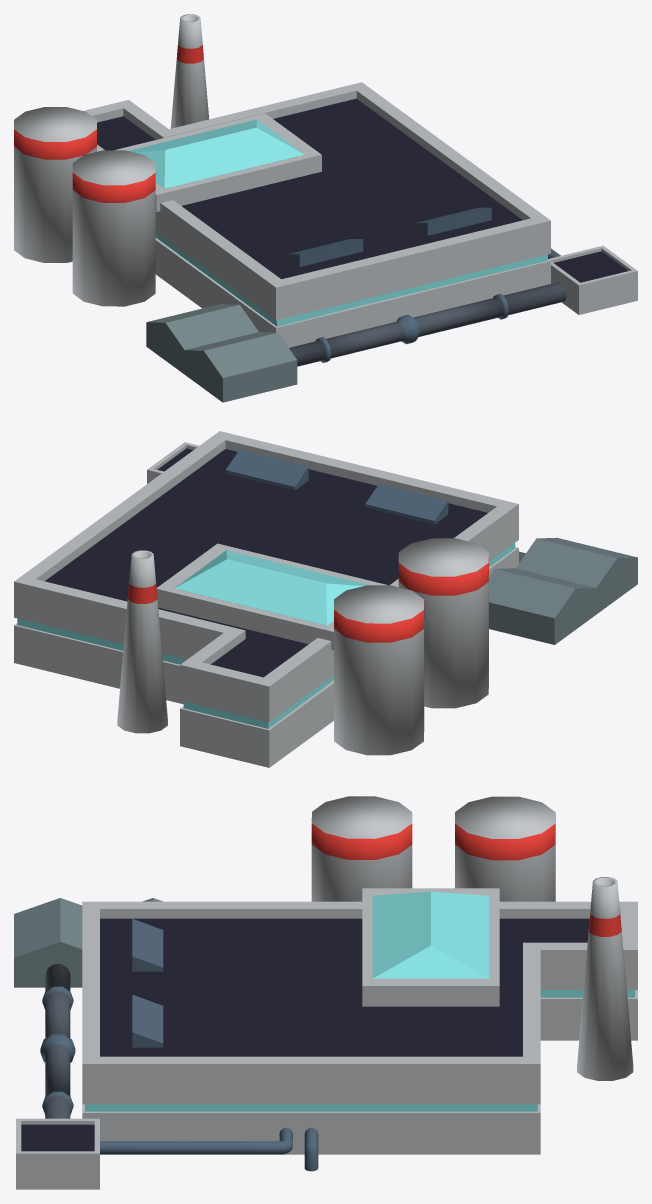
The model's file is factory.fbx.
3 views of the same model, one above another, from view 1: azimuth 30°, elevation 25°; view 2: azimuth 150°, elevation 25°; view 3: azimuth 270°, elevation 25° (orthographic). The views are drawn at different scales.
Visible parts, largest first — view 1: Cube, Cylinder.001, Cylinder, Plane.001, Cube.002, Cylinder.003, Cube.001, Plane, Cylinder.002, Cube.003, Cube.004; view 2: Cube, Cylinder, Cylinder.001, Plane.001, Cube.002, Cylinder.002, Cube.001, Cube.004, Cube.003, Plane; view 3: Cube, Cube.002, Cylinder.001, Cylinder, Cylinder.002, Cube.001, Plane, Plane.001, Cylinder.003, Plane.003, Cube.003, Cube.004 (+1 smaller).
Part boxes in pixels (x1,y1,x2,y2): Cube: (84,82,550,347); Cylinder.001: (72,150,155,306); Cylinder: (14,107,96,262); Plane.001: (146,304,297,402); Cube.002: (128,119,304,188); Cylinder.003: (289,282,566,366); Cube.001: (114,113,321,211); Plane: (549,245,637,314); Cylinder.002: (170,14,208,128); Cube.003: (415,207,491,235); Cube.004: (286,239,363,266); Cube: (14,431,518,767); Cylinder: (334,585,424,755); Cylinder.001: (398,538,488,708); Plane.001: (489,537,637,644); Cube.002: (174,550,369,625); Cylinder.002: (117,550,167,733); Cube.001: (156,543,387,650); Cube.004: (365,484,448,524); Cube.003: (225,450,308,490); Plane: (147,442,199,483); Cube: (82,901,637,1154); Cube.002: (372,891,489,978); Cylinder.001: (311,796,412,901); Cylinder: (455,796,555,901); Cylinder.002: (577,877,633,1080); Cube.001: (362,888,499,1006); Plane: (16,1118,99,1189); Plane.001: (14,898,162,987); Cylinder.003: (40,964,75,1118); Plane.003: (100,1127,292,1154); Cube.003: (132,994,163,1047); Cube.004: (132,919,163,971).
Size of the model in its own units: 118 by 42.2 by 126.
